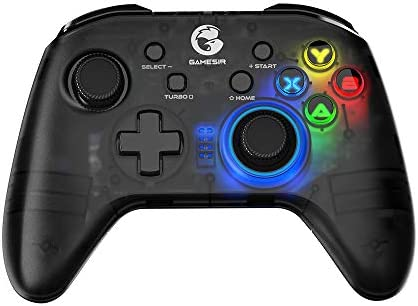controller: (3, 4, 413, 303)
